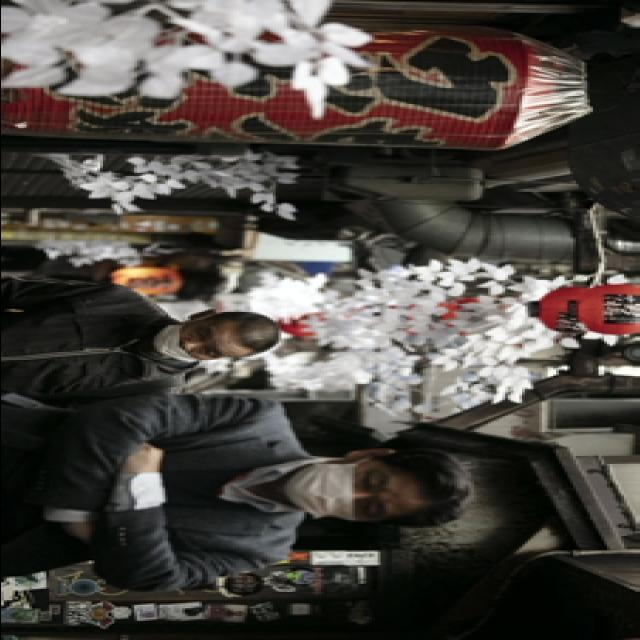mask_weared_incorrect: (150, 322, 232, 364)
with_mask: (283, 461, 399, 522)
